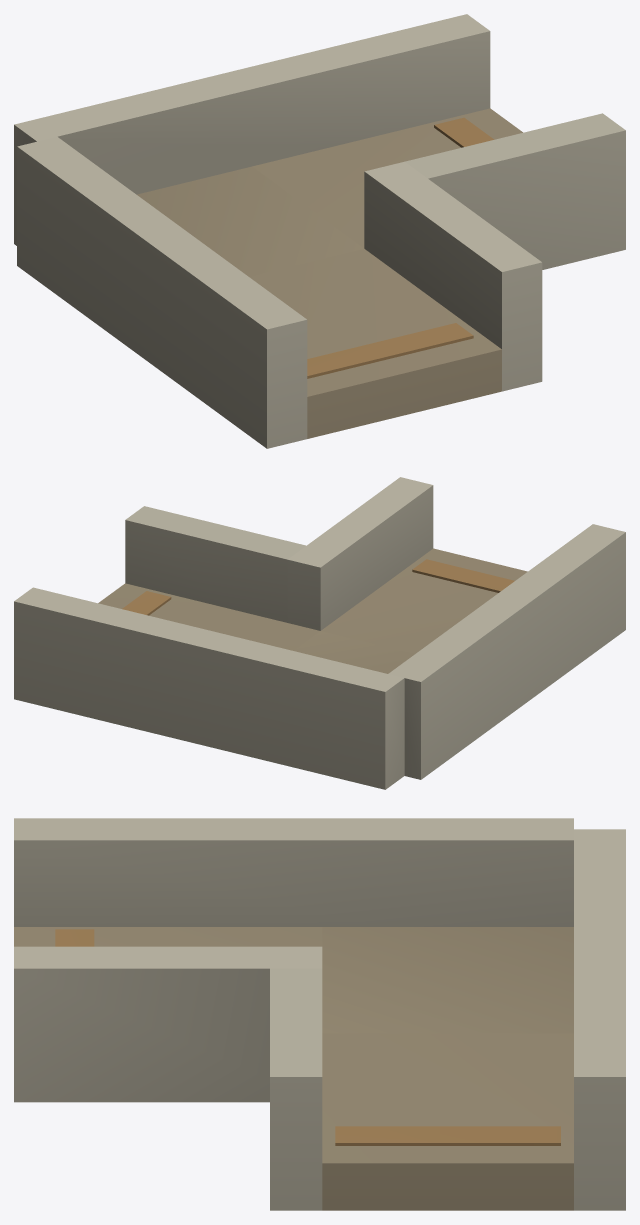
File: channel_bend.glb
The picture shows the model from 3 angles, top to bottom: view 1: azimuth 30°, elevation 25°; view 2: azimuth 150°, elevation 25°; view 3: azimuth 270°, elevation 25°; orthographic projection. The views are drawn at different scales.
Visible parts, largest first — view 1: channel_bend; view 2: channel_bend; view 3: channel_bend.
Part boxes in pixels (left/top/right/bottom): channel_bend: left=14, top=14, right=625, bottom=448; channel_bend: left=14, top=477, right=625, bottom=789; channel_bend: left=14, top=818, right=625, bottom=1210.
Size of the model in its own units: 1.41 by 0.34 by 1.41.
